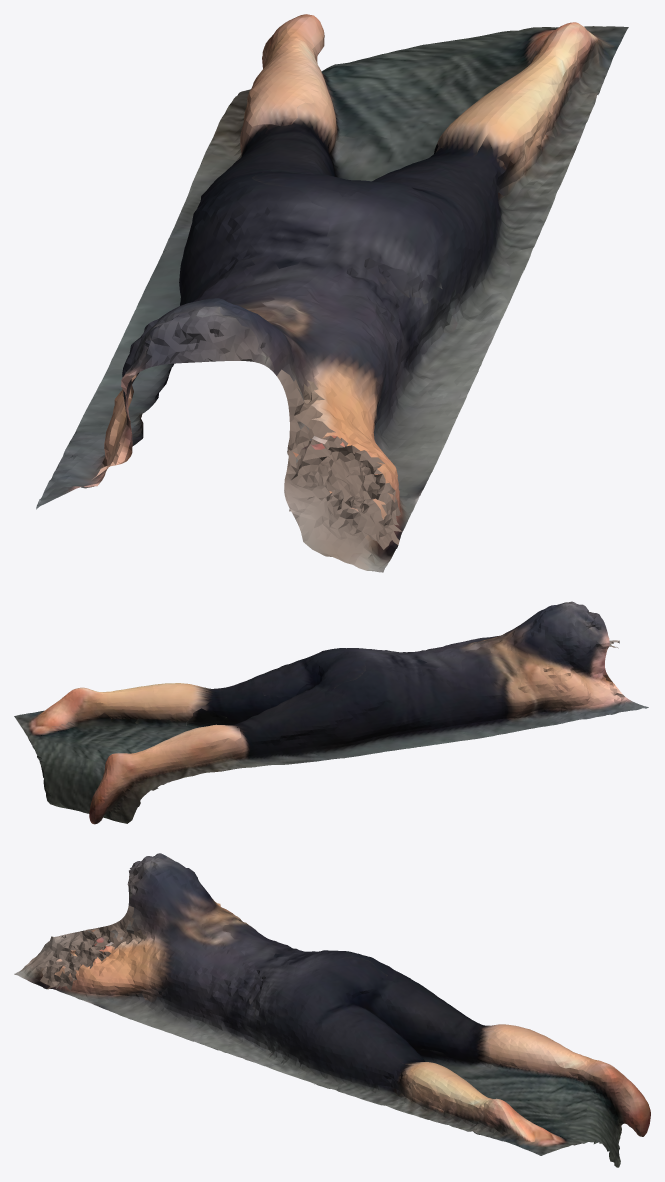
3 views of the same model, one above another, from view 1: azimuth 30°, elevation 25°; view 2: azimuth 150°, elevation 25°; view 3: azimuth 270°, elevation 25° (orthographic). The views are drawn at different scales.
Size of the model in its own units: 1.51 by 0.3822 by 1.6.
1 material, 1 textured.
